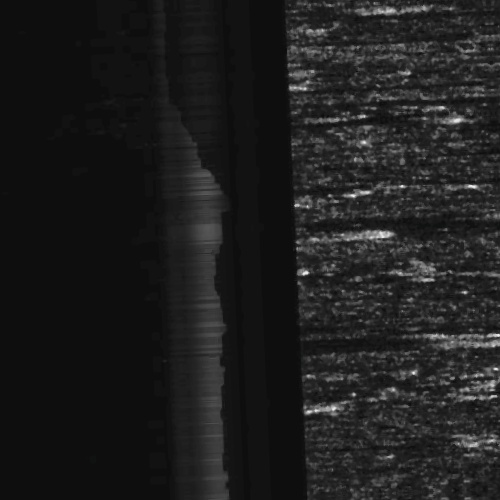object: (490, 78, 500, 99), (473, 342, 500, 349)
shadow: (334, 222, 500, 241), (373, 78, 500, 99), (366, 101, 500, 116), (410, 151, 500, 164), (416, 154, 500, 165), (421, 342, 500, 349), (320, 95, 500, 98)
